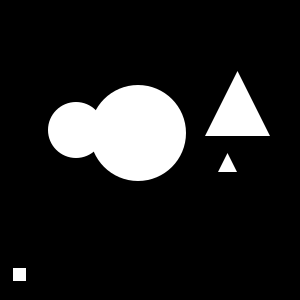circle: (13, 268, 26, 281)
rectangle: (90, 85, 186, 181), (48, 102, 104, 158)
triangle: (205, 71, 270, 136), (218, 153, 237, 172)
